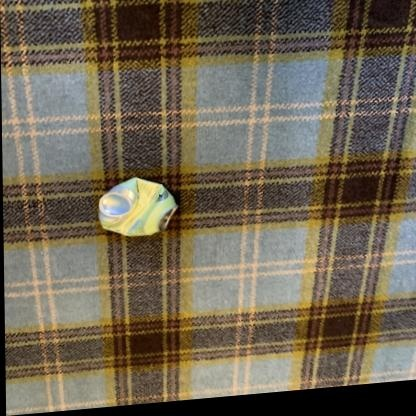trash: (98, 177, 177, 235)
